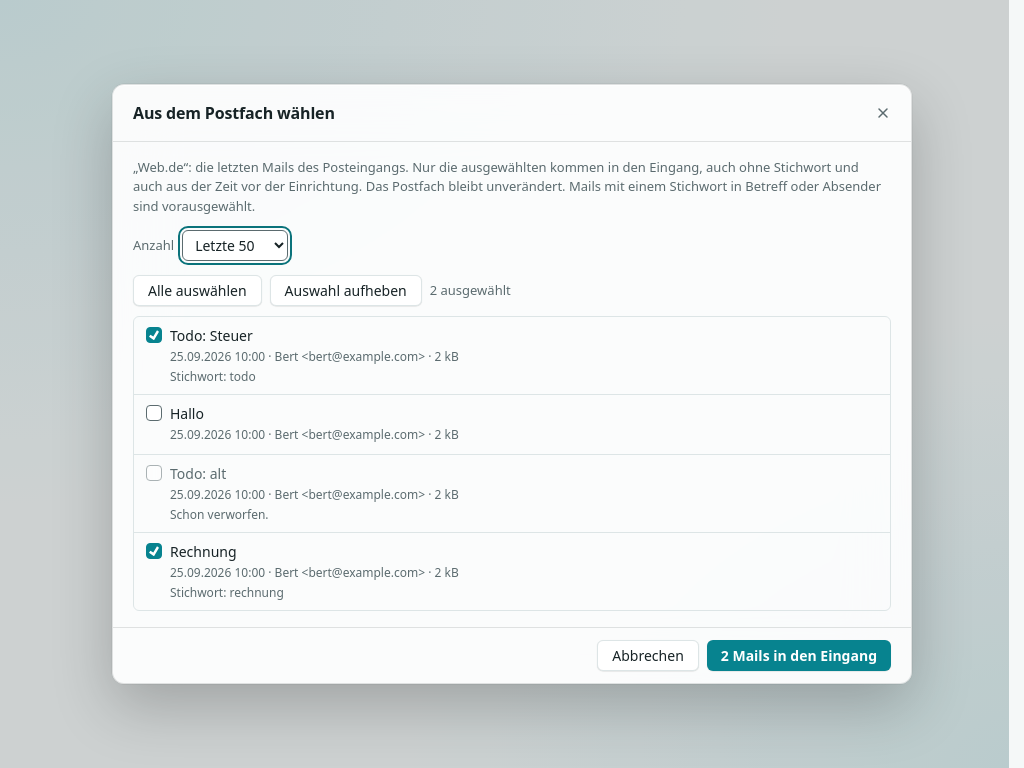
Test: MailboxPicker › takes the chosen mails, shows the result per mail and keeps failed ones selectable
Expected: the text "Todo: Steuer" is shown, [170,326,253,345]
Expected: the button "Abbrechen" is shown, [597,640,699,671]
Click the checkbox labelled "Hallo 25.09.2026 10:00 · Bert <bert@example.com> · 2 kB": (154, 413) [146,405,162,421]
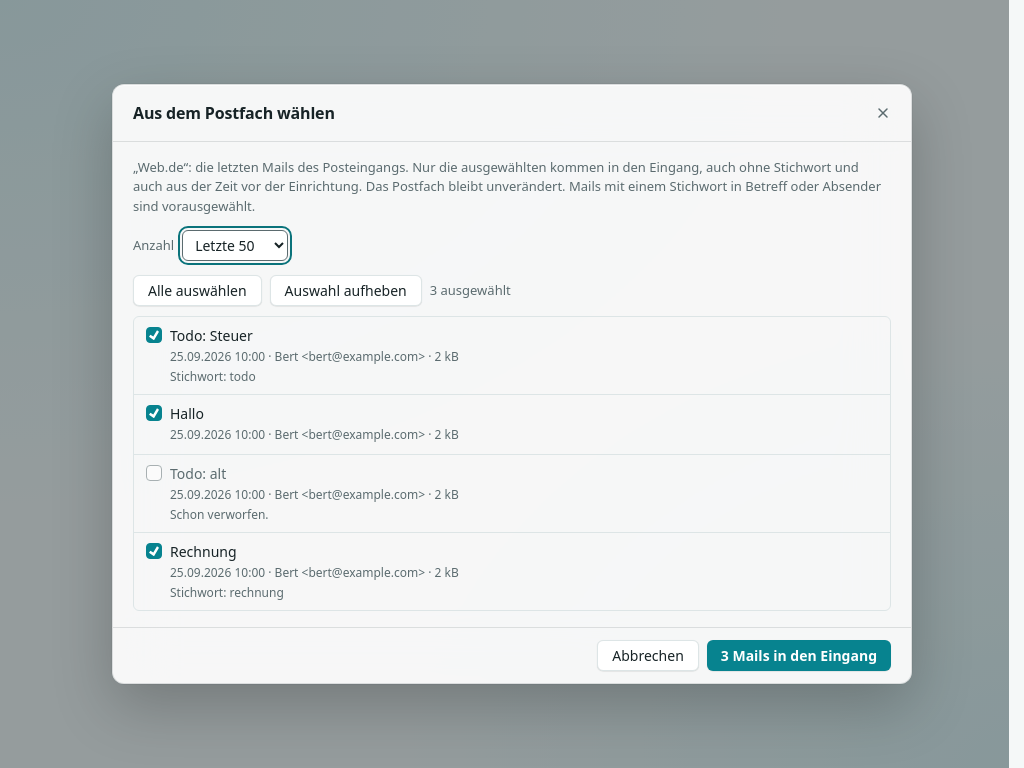
Click the button "3 Mails in den Eingang": (799, 656) [707,640,891,671]
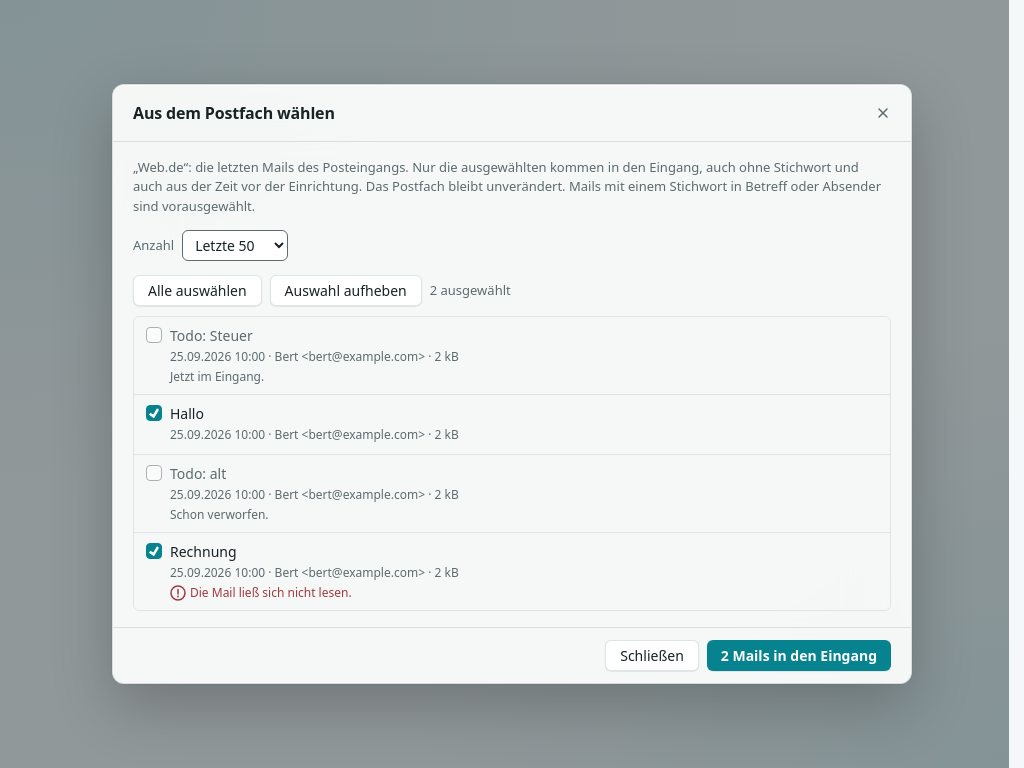
Result: the text "Jetzt im Eingang." is shown at [170,368,264,385]
Result: the 1st checkbox is disabled at [146,327,162,343]
Result: the icon next to "Die Mail ließ sich nicht lesen." is shown at [170,585,186,601]
